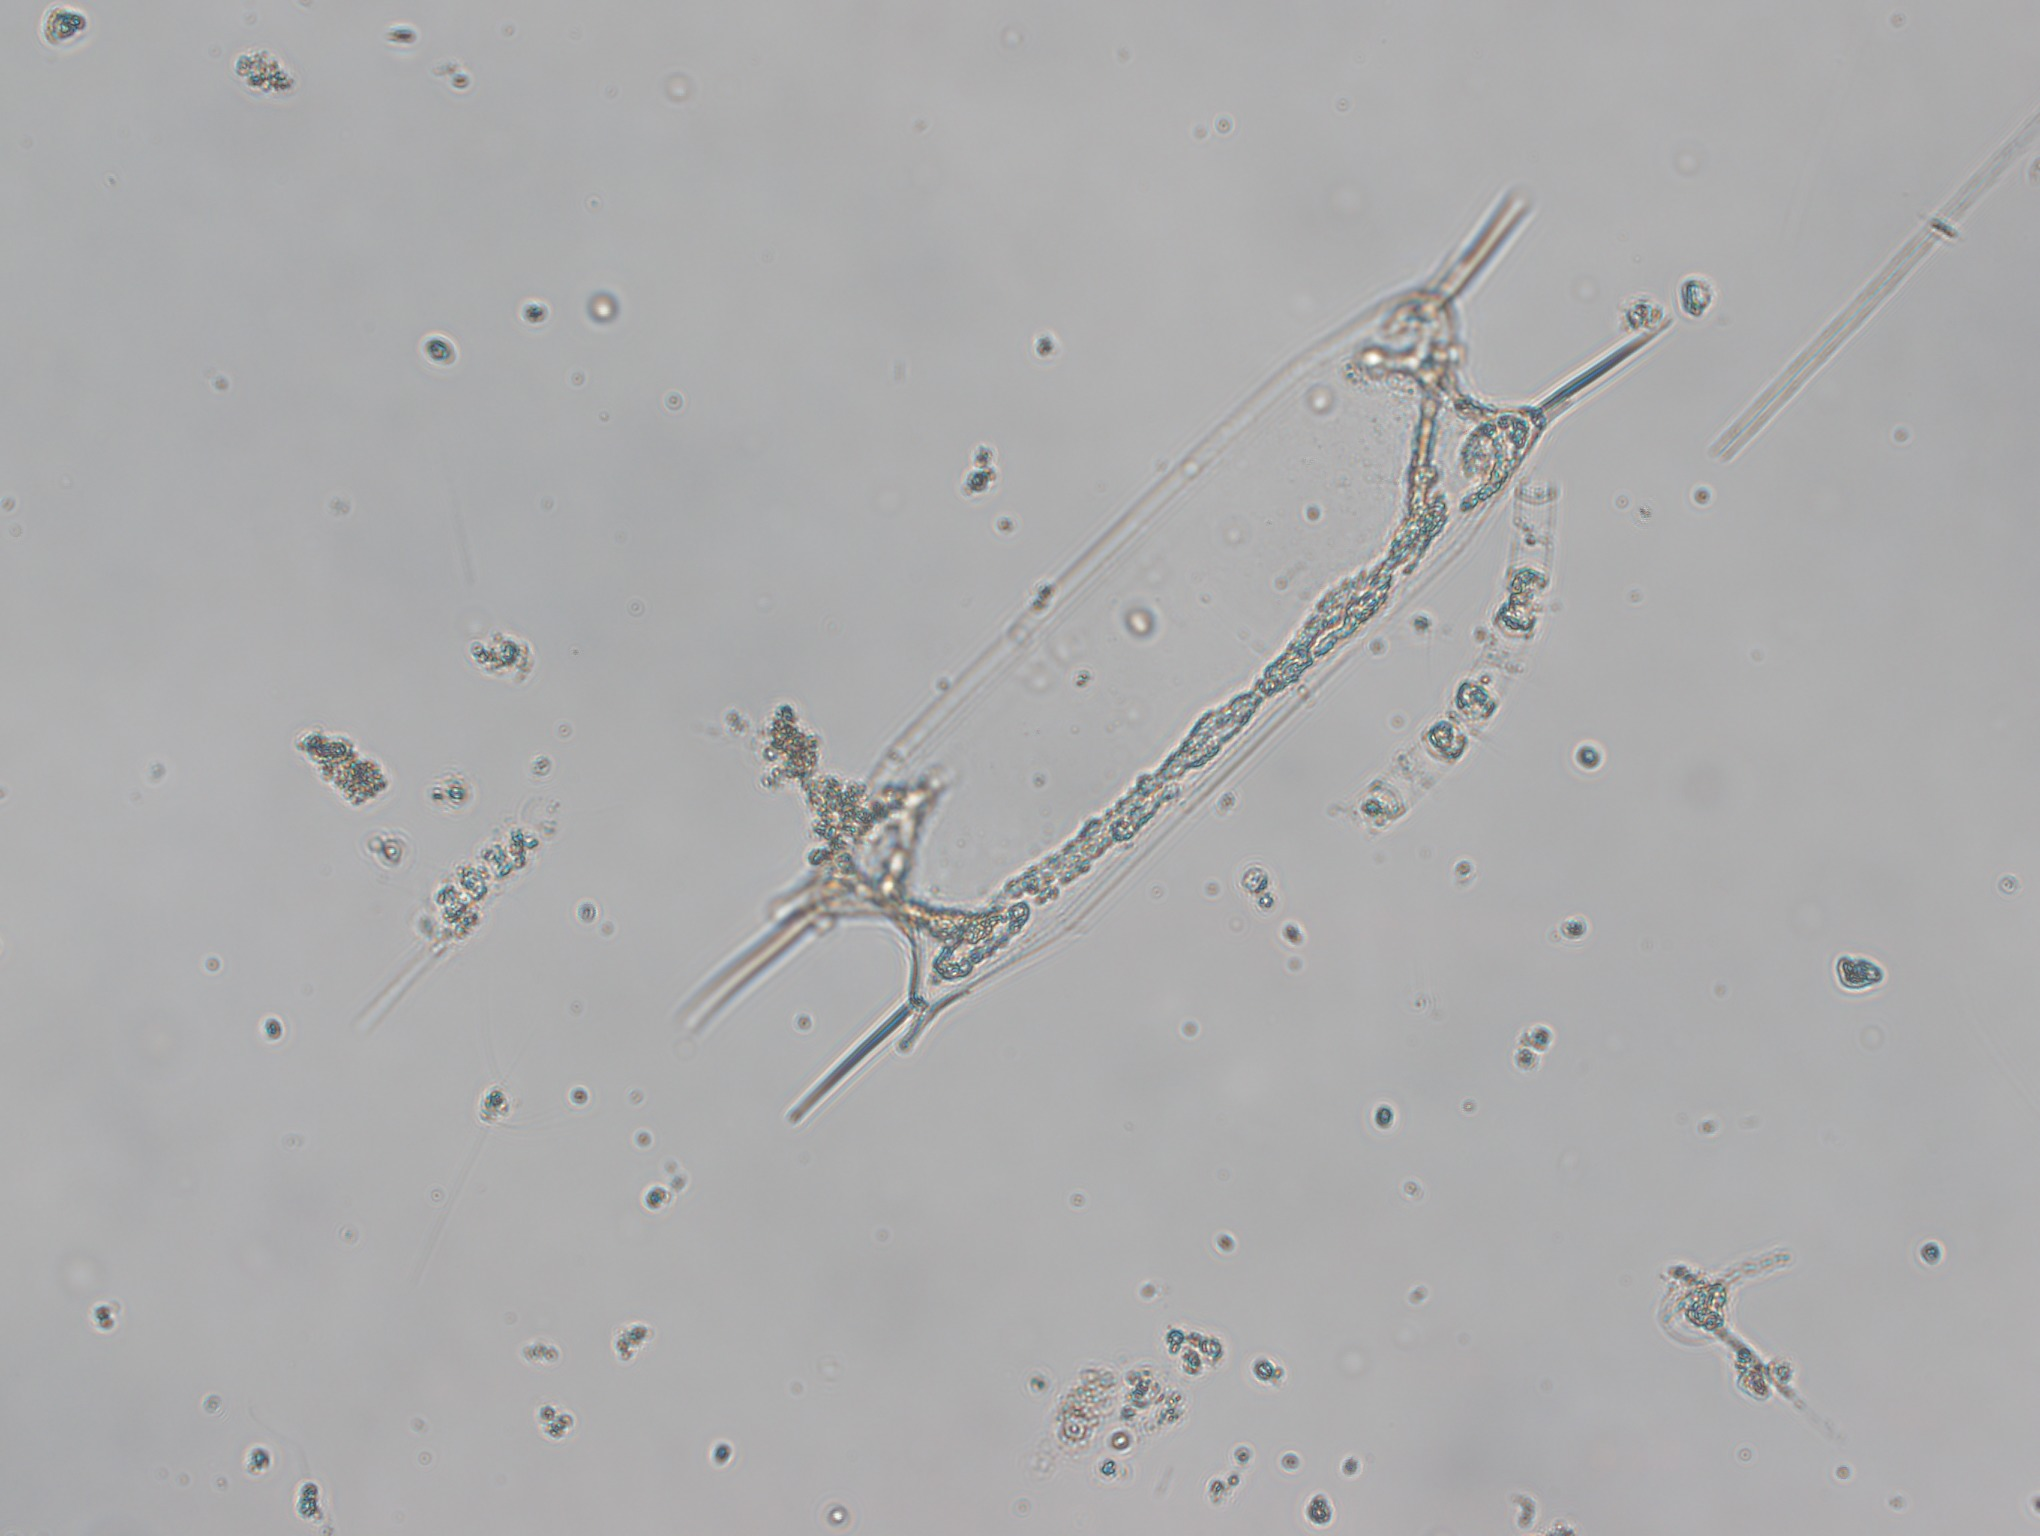biddulphia: (687, 184, 1671, 1129)
chaetoceros: (1335, 468, 1582, 837)
